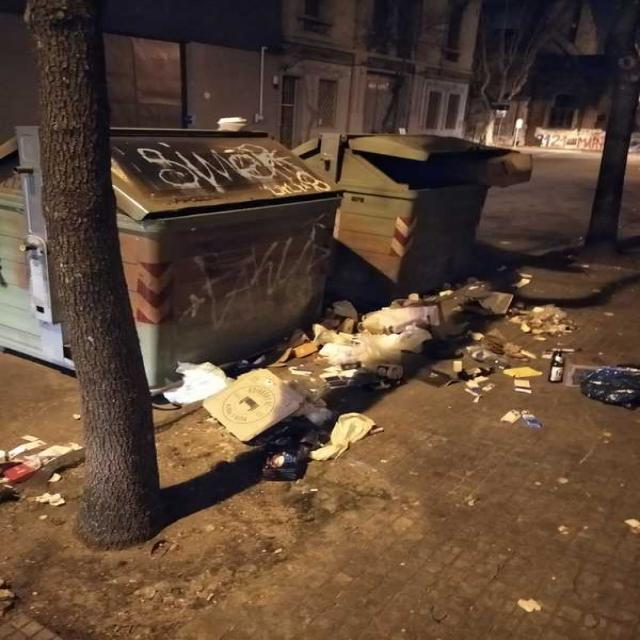garbage: (369, 273, 640, 431), (166, 346, 380, 490), (0, 428, 89, 510), (291, 302, 376, 359)
